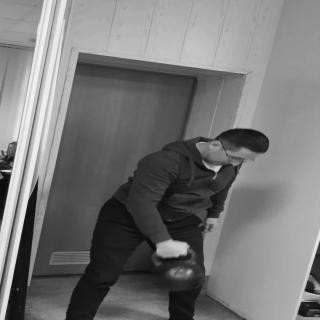kettlebell: (153, 248, 206, 291)
